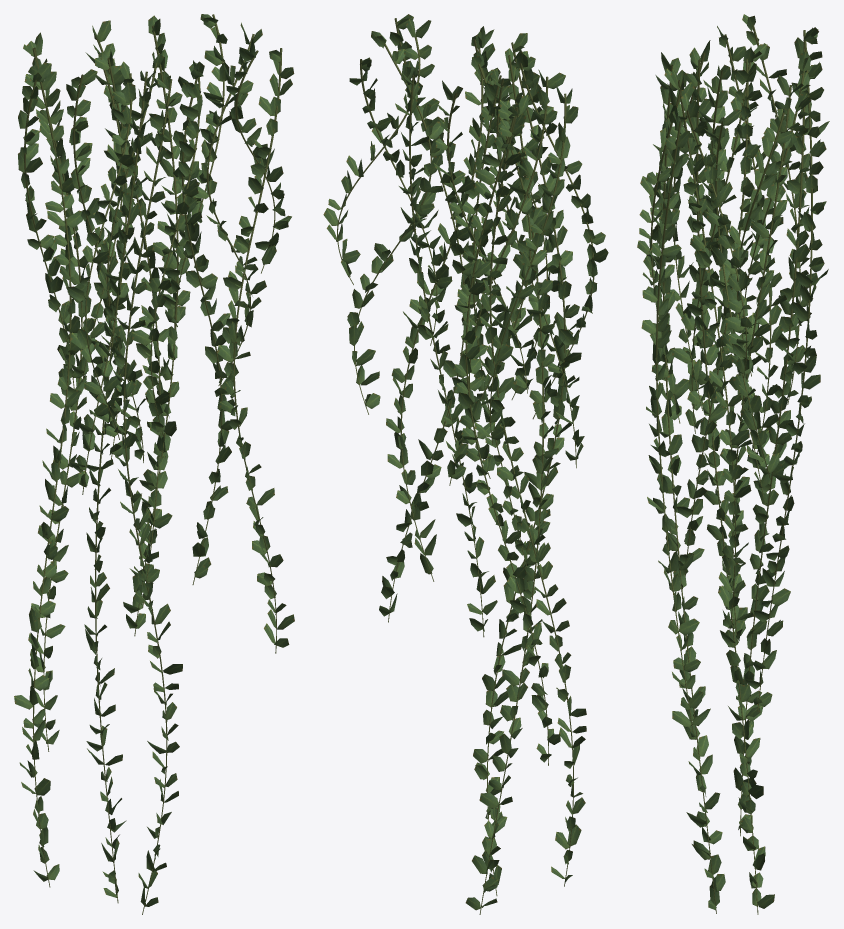
The model's file is hanging-vines.glb.
3 views of the same model, side by side, from view 1: azimuth 30°, elevation 25°; view 2: azimuth 150°, elevation 25°; view 3: azimuth 270°, elevation 25° (orthographic).
Visible parts, largest first — view 1: Scanned_Hanging_Vines; view 2: Scanned_Hanging_Vines; view 3: Scanned_Hanging_Vines.
Part boxes in pixels (x1,y1,x2,y2): Scanned_Hanging_Vines: (14, 14, 294, 914); Scanned_Hanging_Vines: (323, 14, 608, 914); Scanned_Hanging_Vines: (637, 14, 829, 914).
Bounding box in the file's own units: 0.7672 × 2.35 × 0.4742.
Materials: 2 (1 with a texture image).
